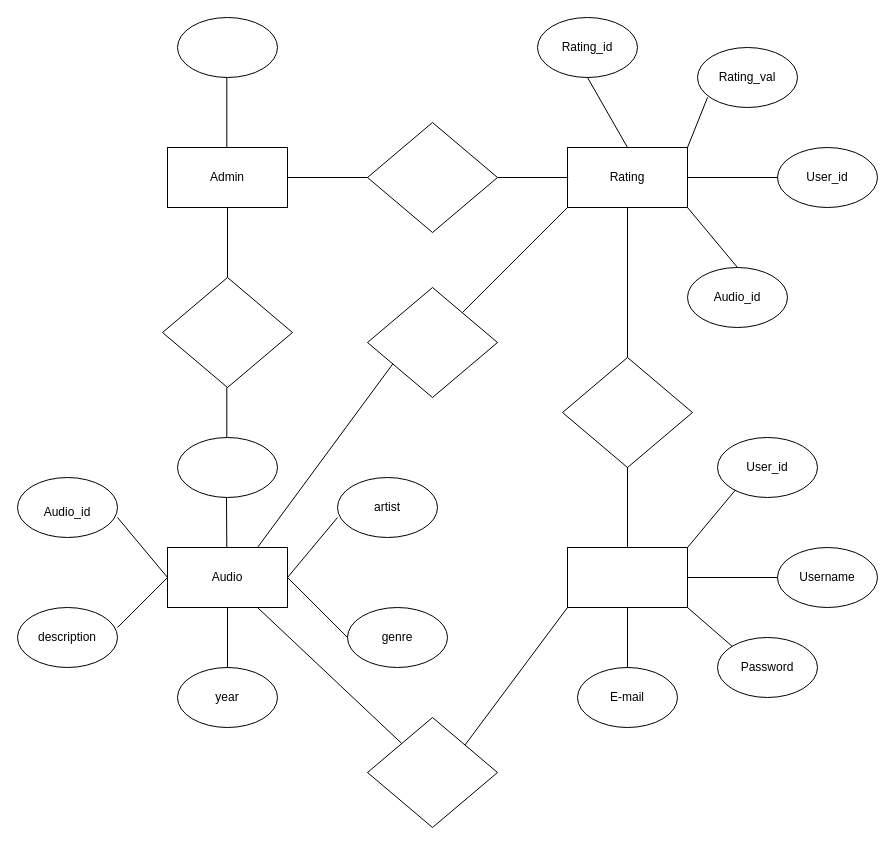
This 895x845 diagram has some shape labels left out. The shapes that lost their labels are listed below. From the top down, each one's centre as x and y in pixels, then its label:
point (227, 47): Admin_id
point (432, 177): View
point (227, 332): Operations
point (432, 342): Have
point (627, 412): Receive
point (227, 467): title
point (627, 577): User
point (432, 772): Listen
